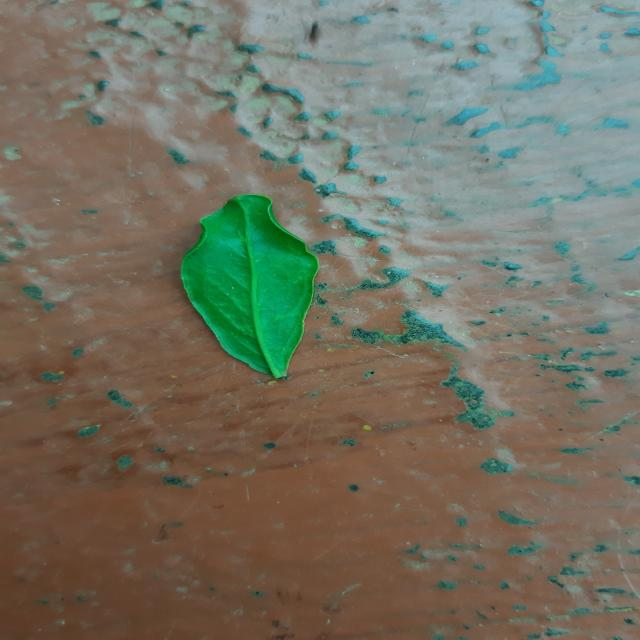pumpkin: (182, 195, 318, 378)
